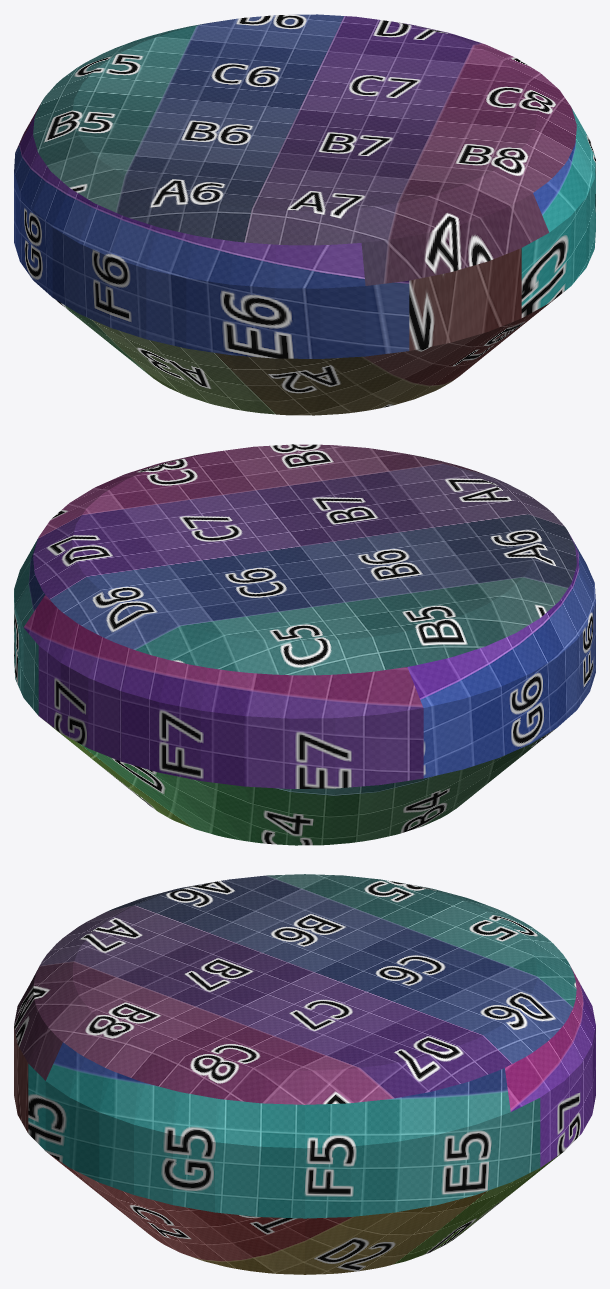
File: IslandBase.gltf
3 views of the same model, one above another, from view 1: azimuth 30°, elevation 25°; view 2: azimuth 150°, elevation 25°; view 3: azimuth 270°, elevation 25° (orthographic).
Visible parts, largest first — view 1: IslandBase; view 2: IslandBase; view 3: IslandBase.
Part boxes in pixels (box(x1,y1,x2,y2)): IslandBase: box(14, 14, 595, 415); IslandBase: box(14, 444, 595, 845); IslandBase: box(14, 874, 595, 1274).
Bounding box in the file's own units: 15 × 8 × 15.
Materials: 1 (1 with a texture image).
